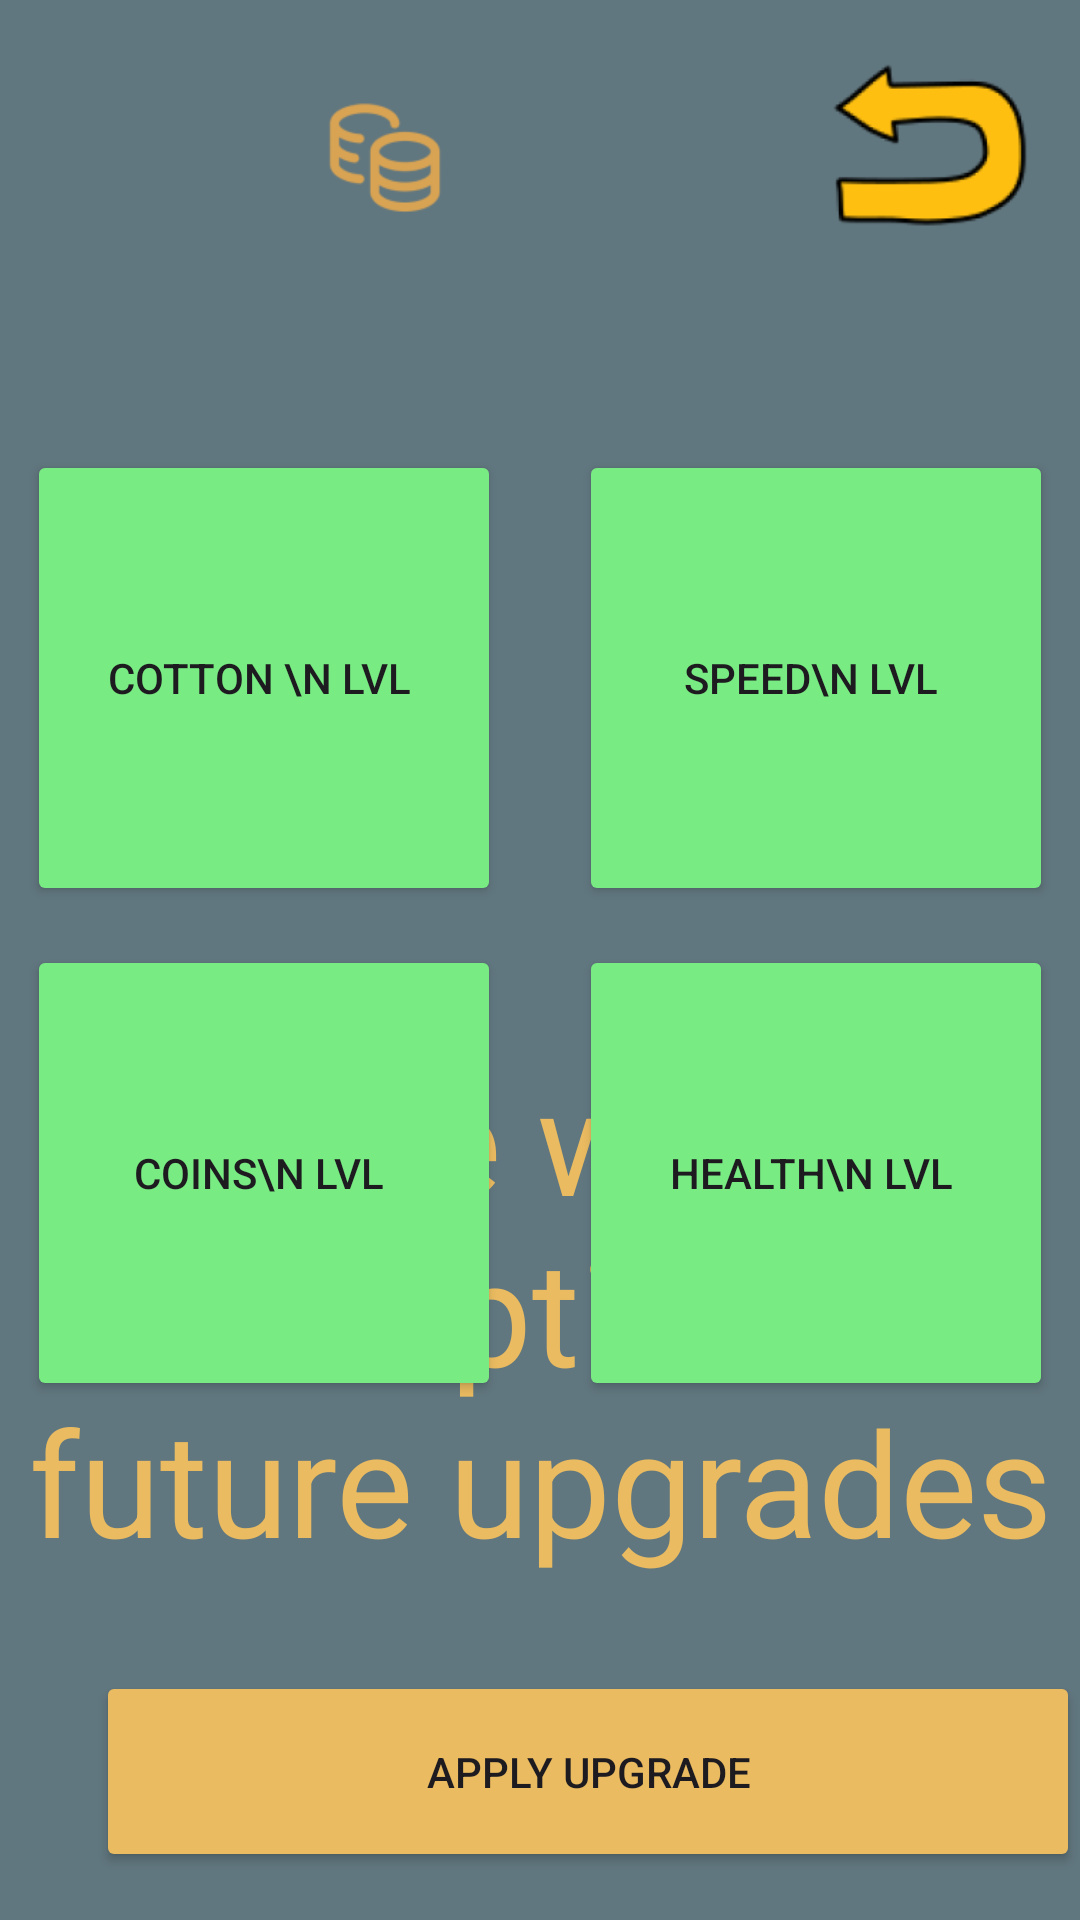

Screen size 1080 × 1920. Icon name, then its box in pixels as (left=x1, top=y1, right=x2, bottom=y2):
backarrowbabus: (left=834, top=65, right=1026, bottom=226)
coinsbabus: (left=329, top=103, right=440, bottom=212)
